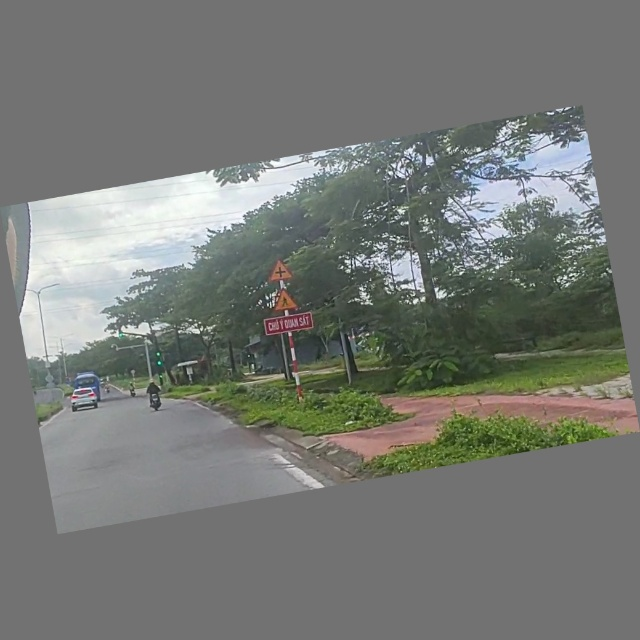W.205a: (263, 258, 294, 285)
W.224: (267, 286, 301, 315)
